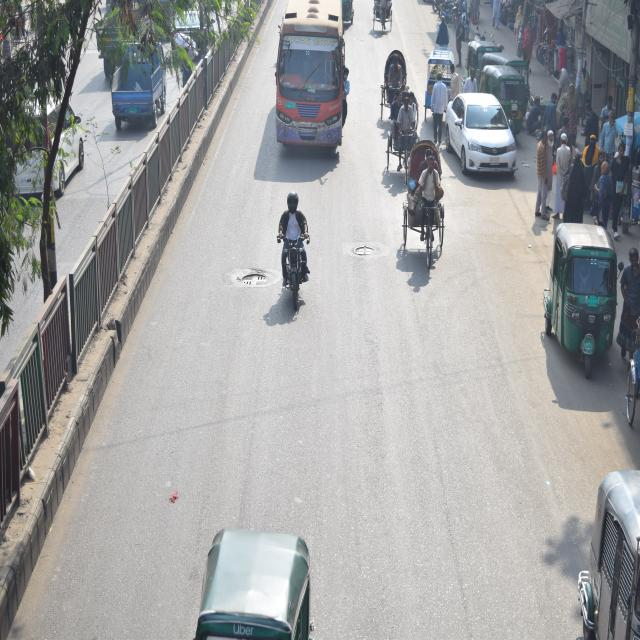bus: (271, 1, 353, 160)
car: (8, 84, 89, 207), (440, 86, 514, 175)
motorbike: (273, 205, 310, 318)
pickup-van: (110, 39, 168, 138)
